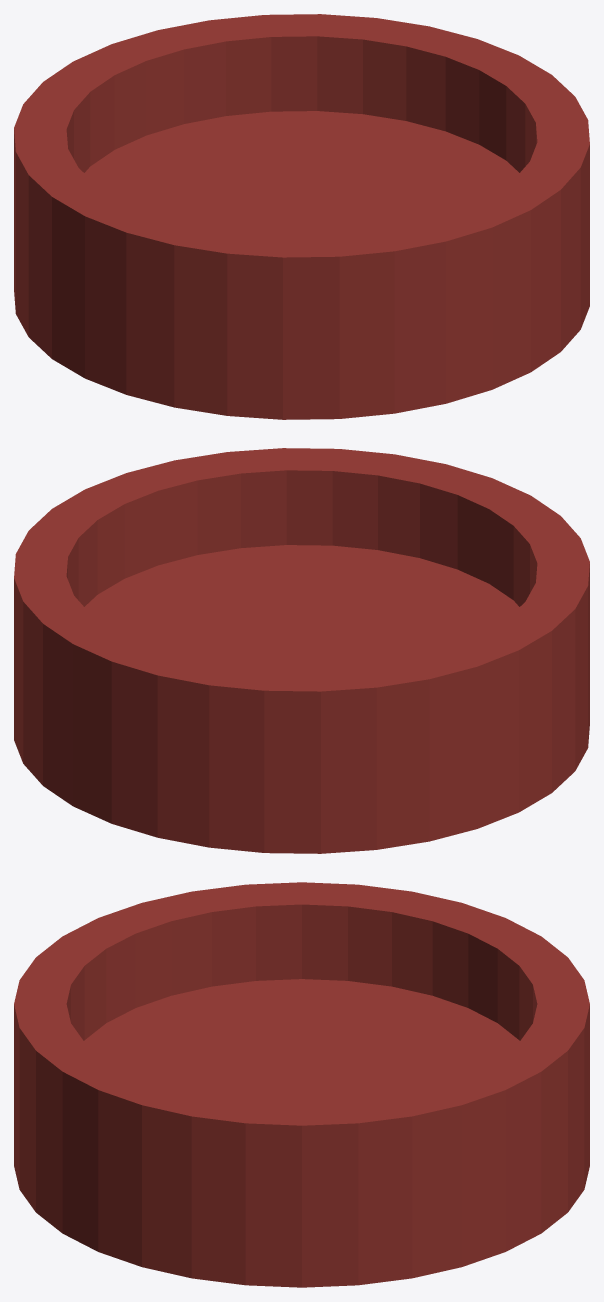
Rendered from catBowl.fbx.
The picture shows the model from 3 angles, top to bottom: view 1: azimuth 30°, elevation 25°; view 2: azimuth 150°, elevation 25°; view 3: azimuth 270°, elevation 25°; orthographic projection.
Parts seen in each view (by area): view 1: Bowl; view 2: Bowl; view 3: Bowl.
Part boxes in pixels (x1=…): Bowl: x1=14, y1=14, x2=589, y2=419; Bowl: x1=14, y1=448, x2=589, y2=853; Bowl: x1=14, y1=882, x2=589, y2=1287.
Size of the model in its own units: 200 by 62.06 by 200.
